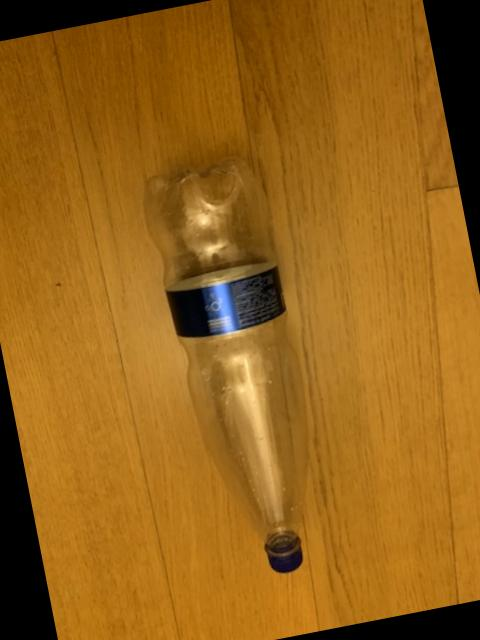plastic: (144, 160, 305, 574)
